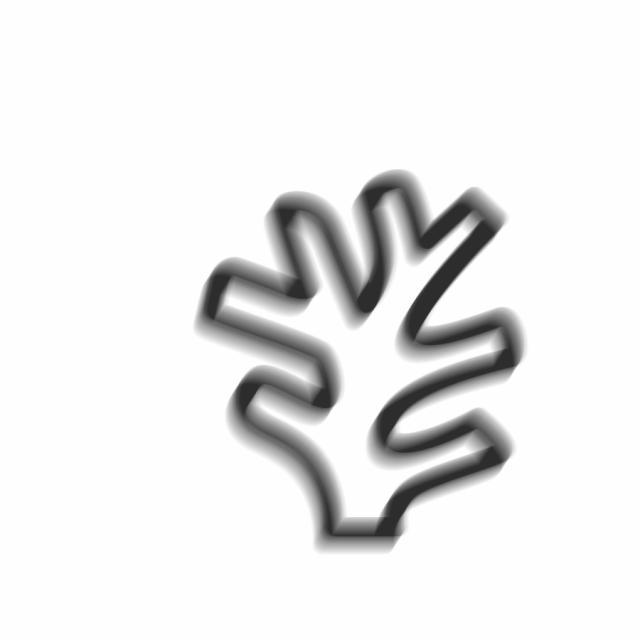coral: (186, 165, 536, 563)
